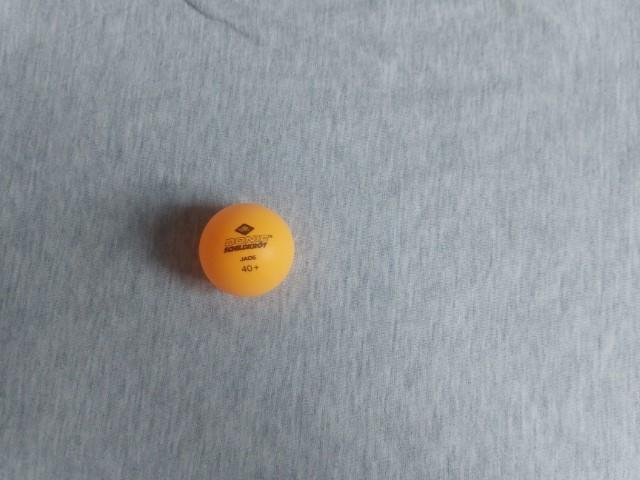oball: (338, 178, 447, 285)
